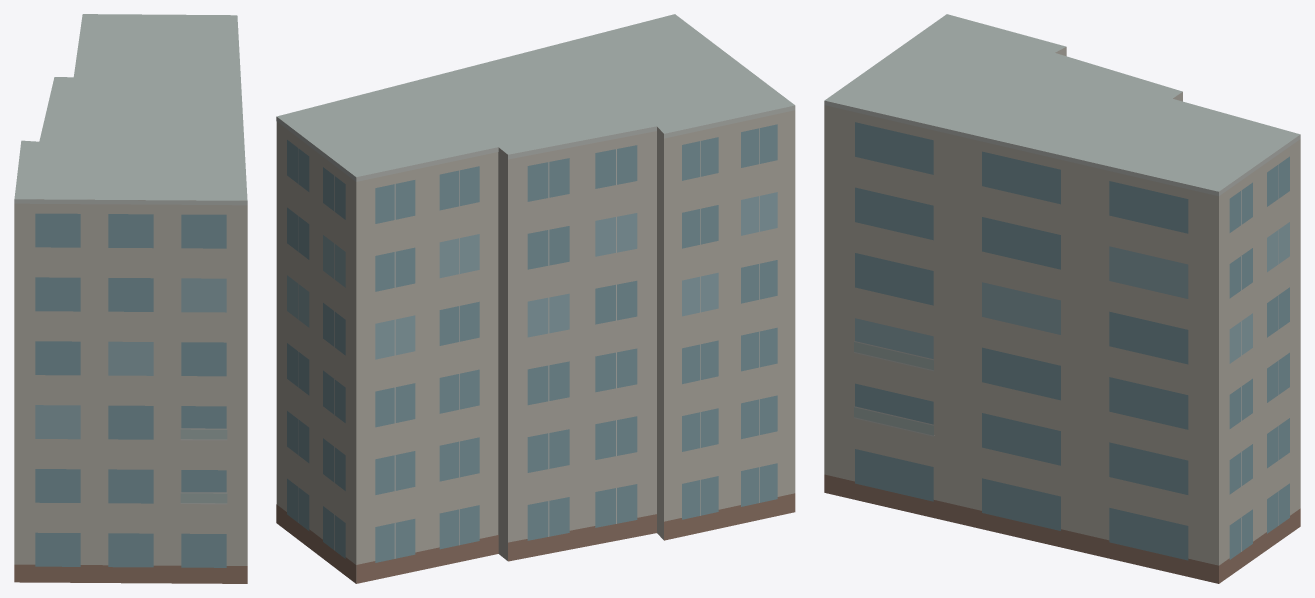
File: survey-upis-33035000.glb
3 renders of one model, left to right at view 1: azimuth 30°, elevation 25°; view 2: azimuth 150°, elevation 25°; view 3: azimuth 270°, elevation 25°, orthographic. The views are drawn at different scales.
Visible parts, largest first — view 1: survey-upis-33035000.tmp; view 2: survey-upis-33035000.tmp; view 3: survey-upis-33035000.tmp.
Part boxes in pixels (x1,y1,x2,y2): survey-upis-33035000.tmp: (14,14,247,583); survey-upis-33035000.tmp: (276,14,795,583); survey-upis-33035000.tmp: (824,14,1300,583).
Bounding box in the file's own units: 20.42 × 21 × 23.12.
